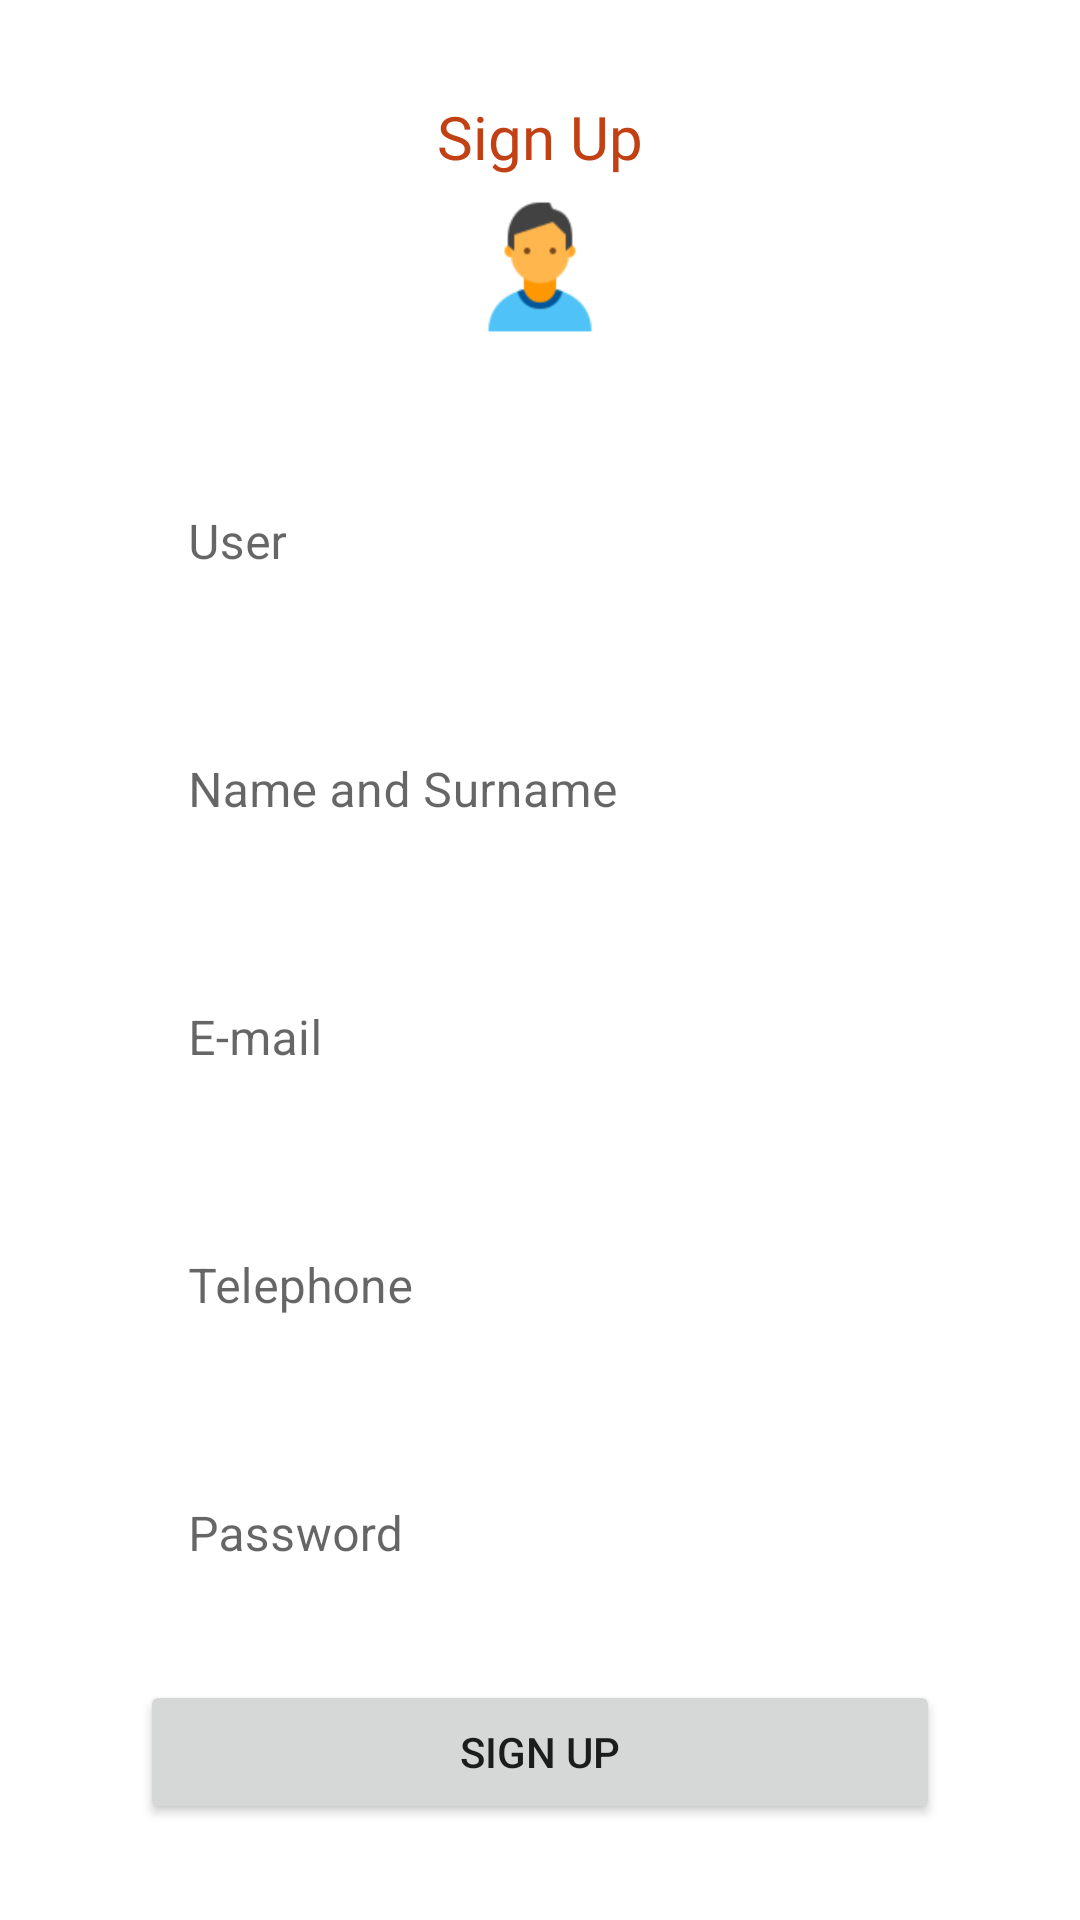

Icons on this 1080w x 1920h Android screen, each with the point to tap as (x,y):
person: (540,267)
